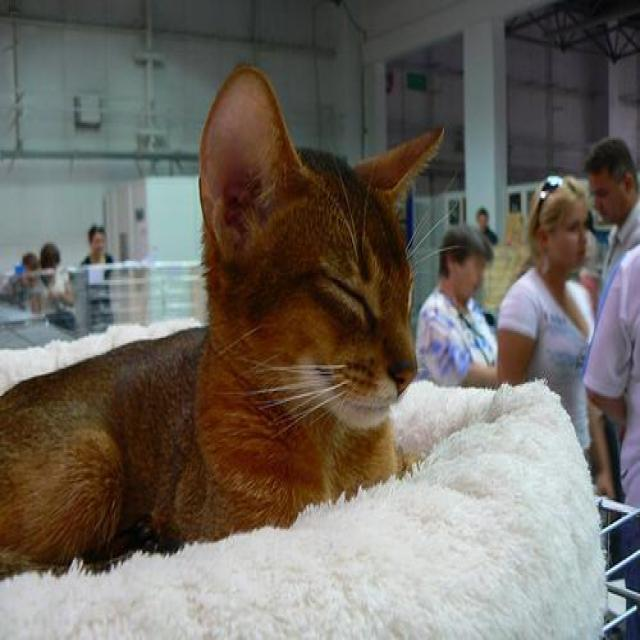cat: (0, 65, 443, 579)
